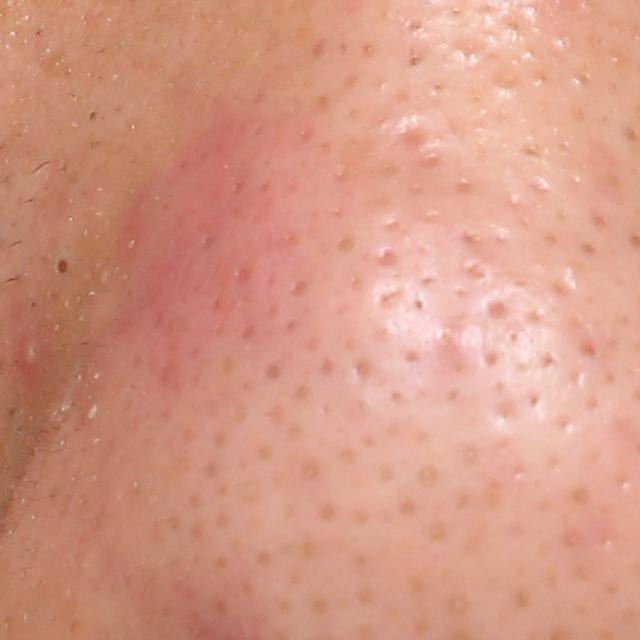comedo: (50, 251, 75, 280)
pustule: (17, 335, 47, 370)
